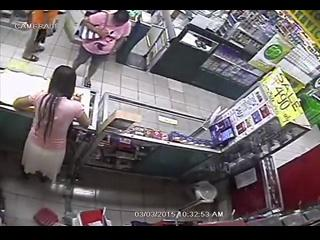Normal: (12, 65, 91, 190), (70, 10, 133, 88), (22, 10, 62, 62)
